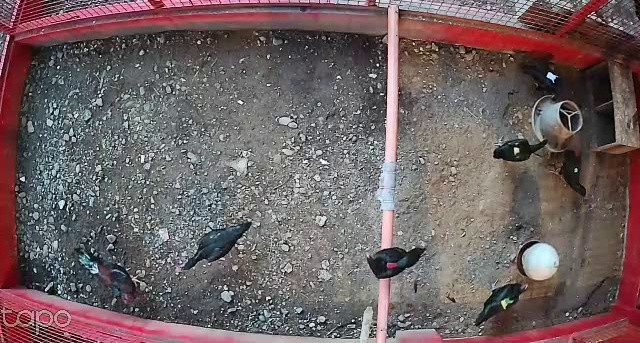Chicken: (179, 221, 254, 274), (363, 240, 424, 280), (515, 52, 563, 102), (488, 130, 550, 165), (549, 147, 589, 197)
Rooster: (73, 243, 144, 307)
Saddle_Color_Red: (386, 261, 397, 270)
Saddle_Color_White: (546, 70, 557, 84)
Saddle_Color_Yellow: (512, 143, 521, 156)
